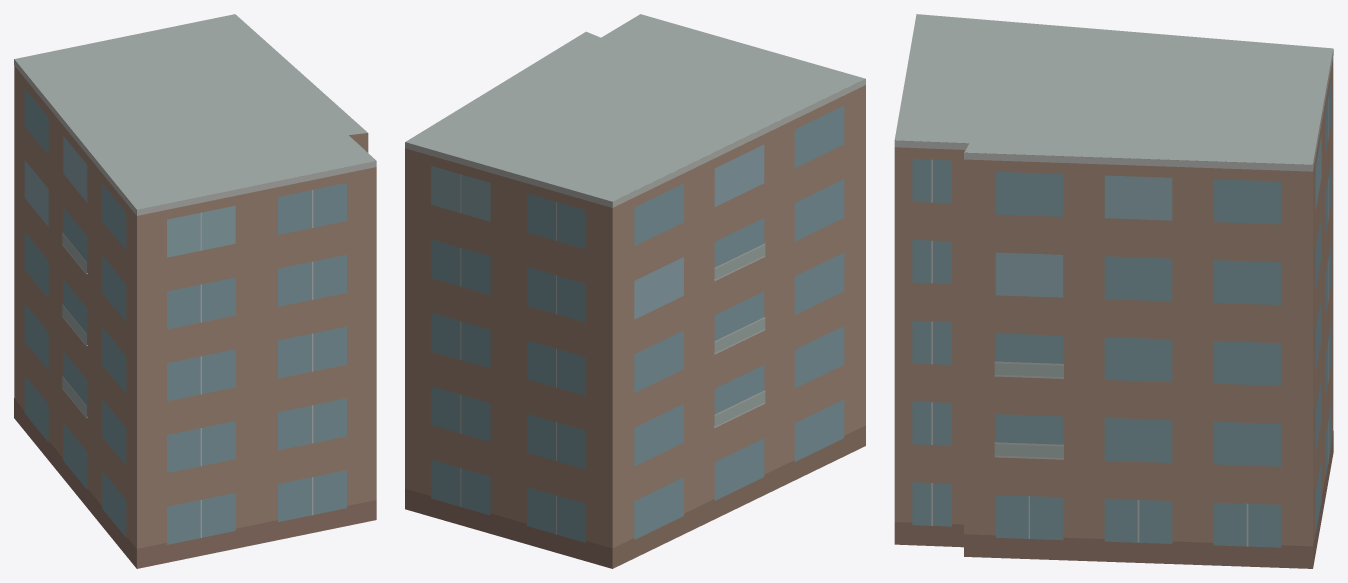
The model's file is survey-upis-32754751.glb.
The picture shows the model from 3 angles, left to right: view 1: azimuth 30°, elevation 25°; view 2: azimuth 150°, elevation 25°; view 3: azimuth 270°, elevation 25°; orthographic projection. The views are drawn at different scales.
Parts seen in each view (by area): view 1: survey-upis-32754751.tmp; view 2: survey-upis-32754751.tmp; view 3: survey-upis-32754751.tmp.
Boxes of the visible parts, <box> form: survey-upis-32754751.tmp: <box>14,14,376,568</box>; survey-upis-32754751.tmp: <box>405,14,865,568</box>; survey-upis-32754751.tmp: <box>894,14,1333,568</box>.
Size of the model in its own units: 11.53 by 14.4 by 14.18.
